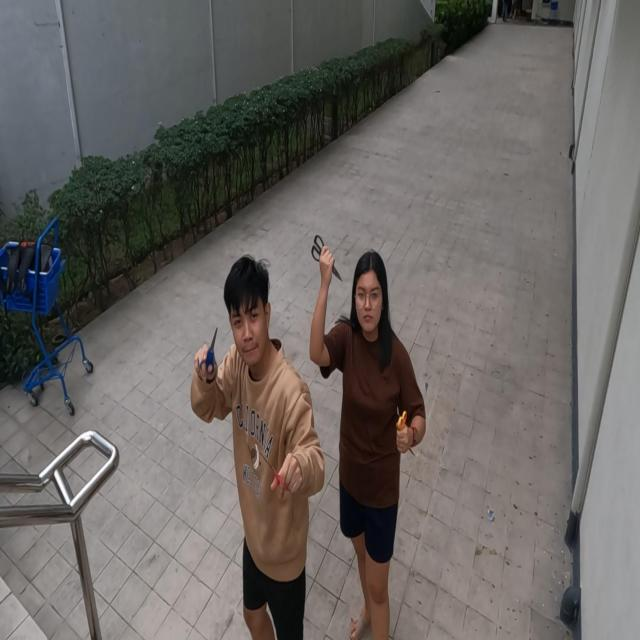scissor: (310, 233, 342, 282), (200, 325, 218, 376), (397, 411, 408, 465)
